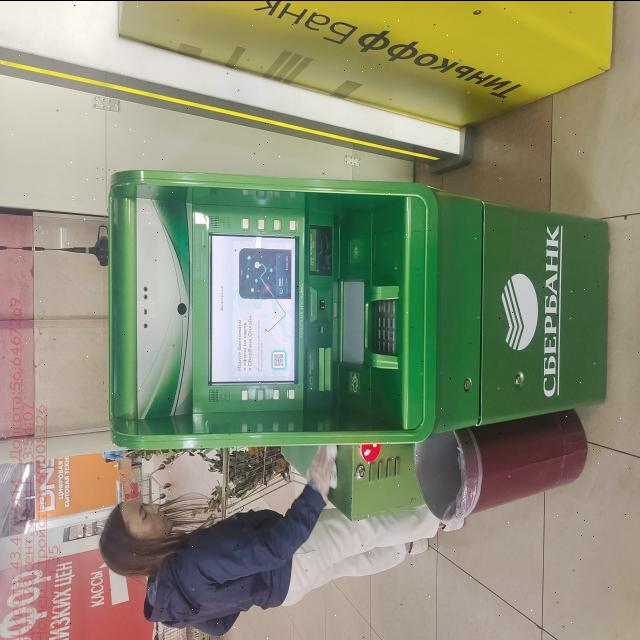bank: (104, 165, 610, 458)
